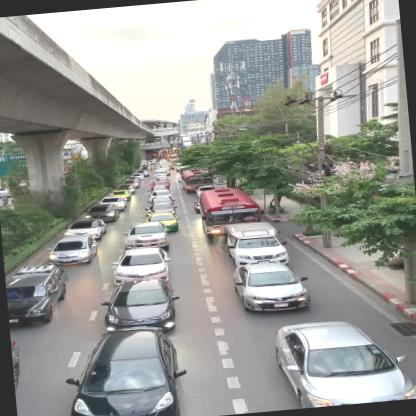bus: (196, 185, 262, 242)
car: (273, 314, 415, 410), (63, 324, 196, 415), (100, 276, 184, 335), (4, 262, 72, 328), (235, 260, 310, 316), (225, 219, 293, 270), (110, 246, 171, 284), (44, 233, 98, 267), (124, 221, 167, 251), (65, 219, 103, 242), (84, 203, 121, 224), (146, 212, 180, 233)
